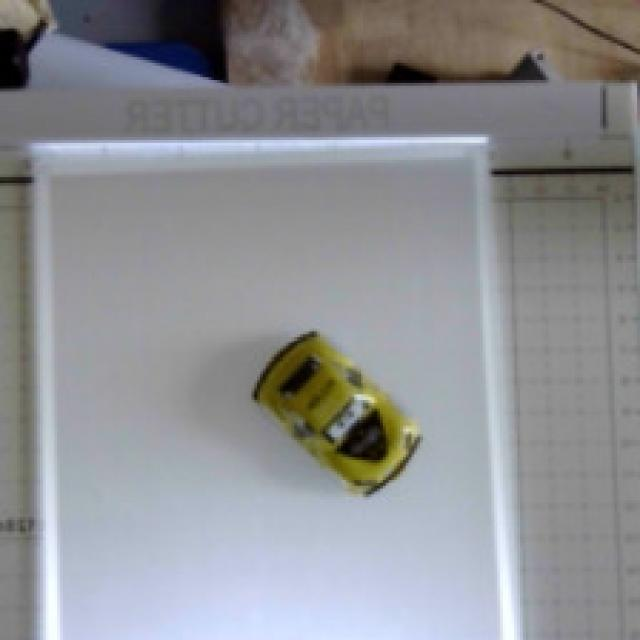Yellow Car: (186, 280, 447, 534)
